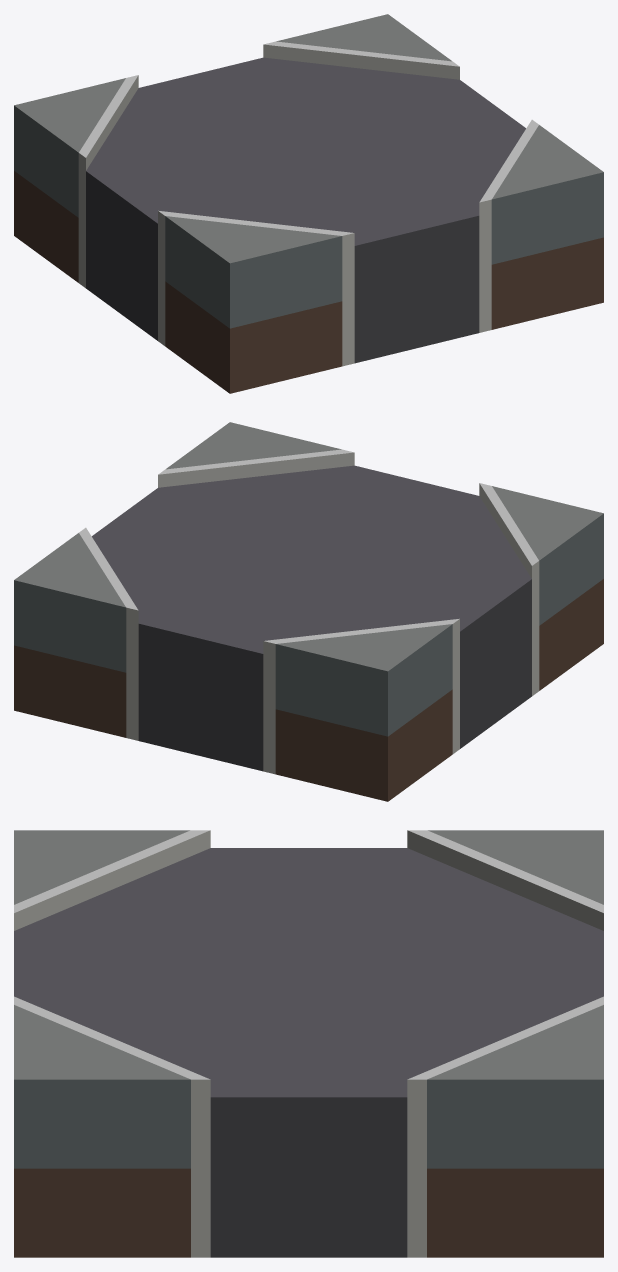
File: TB_CITY_Road_M.FBX
3 views of the same model, one above another, from view 1: azimuth 30°, elevation 25°; view 2: azimuth 150°, elevation 25°; view 3: azimuth 270°, elevation 25° (orthographic). The views are drawn at different scales.
Parts seen in each view (by area): view 1: TB_CITY_Road_M; view 2: TB_CITY_Road_M; view 3: TB_CITY_Road_M.
Part boxes in pixels (bbox=[...]): TB_CITY_Road_M: bbox=[14, 14, 603, 393]; TB_CITY_Road_M: bbox=[14, 422, 603, 801]; TB_CITY_Road_M: bbox=[14, 830, 603, 1257].
Bounding box in the file's own units: 30 × 10 × 30.
